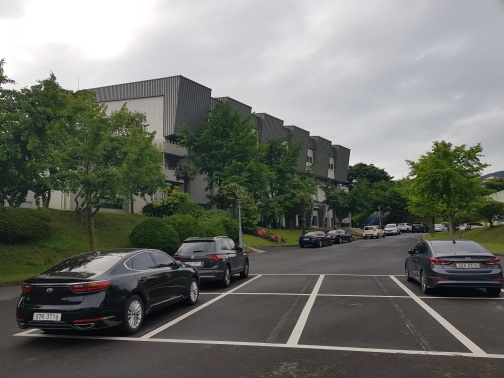Gym: (104, 74, 355, 227), (257, 108, 352, 186)
